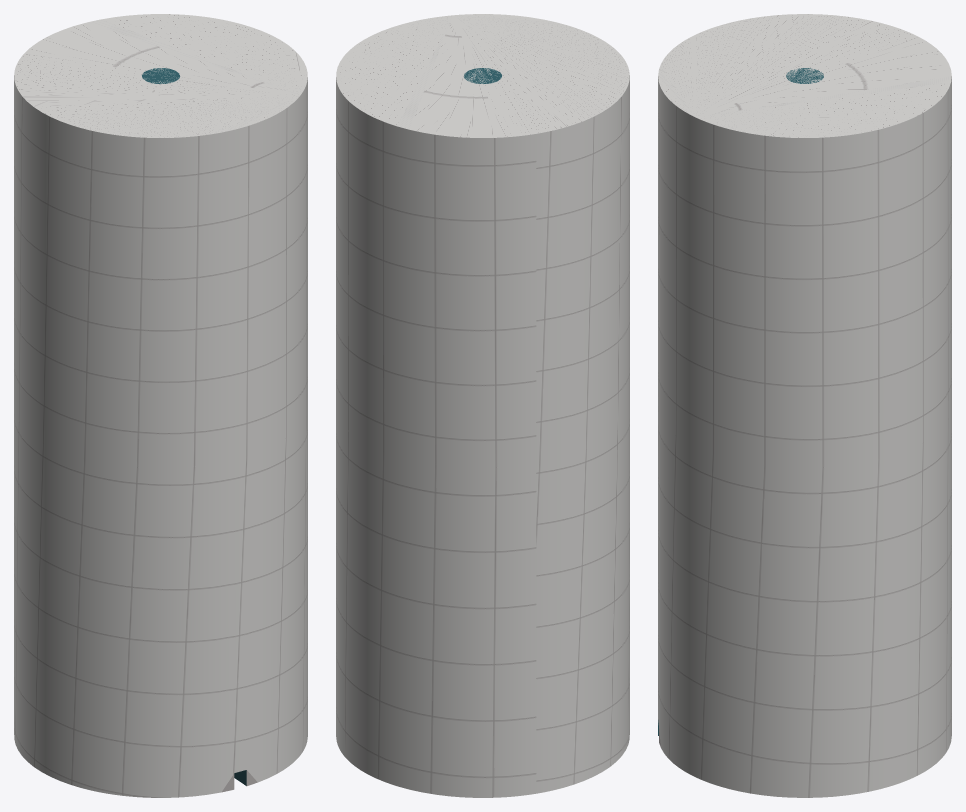
The model's file is platform_tube1.dae.
3 views of the same model, side by side, from view 1: azimuth 30°, elevation 25°; view 2: azimuth 150°, elevation 25°; view 3: azimuth 270°, elevation 25° (orthographic).
Visible parts, largest first — view 1: S_base_extract27-0-walk2-fx, S_base_extract27-0-pool2-fx; view 2: S_base_extract27-0-walk2-fx; view 3: S_base_extract27-0-walk2-fx.
Part boxes in pixels (box(x1,y1,x2,y2)): S_base_extract27-0-walk2-fx: box(14, 14, 307, 797); S_base_extract27-0-pool2-fx: box(142, 68, 246, 785); S_base_extract27-0-walk2-fx: box(336, 14, 629, 797); S_base_extract27-0-walk2-fx: box(658, 14, 951, 797).
Bounding box in the file's own units: 161 × 400 × 161.
